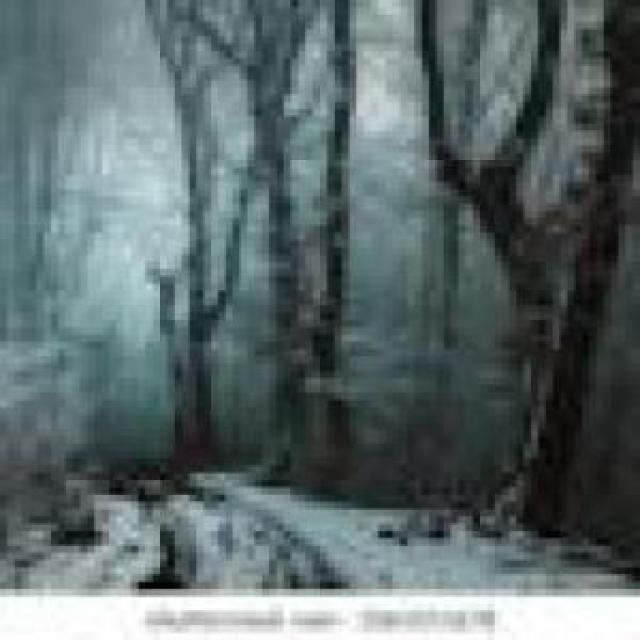ice-road: (100, 491, 366, 587)
